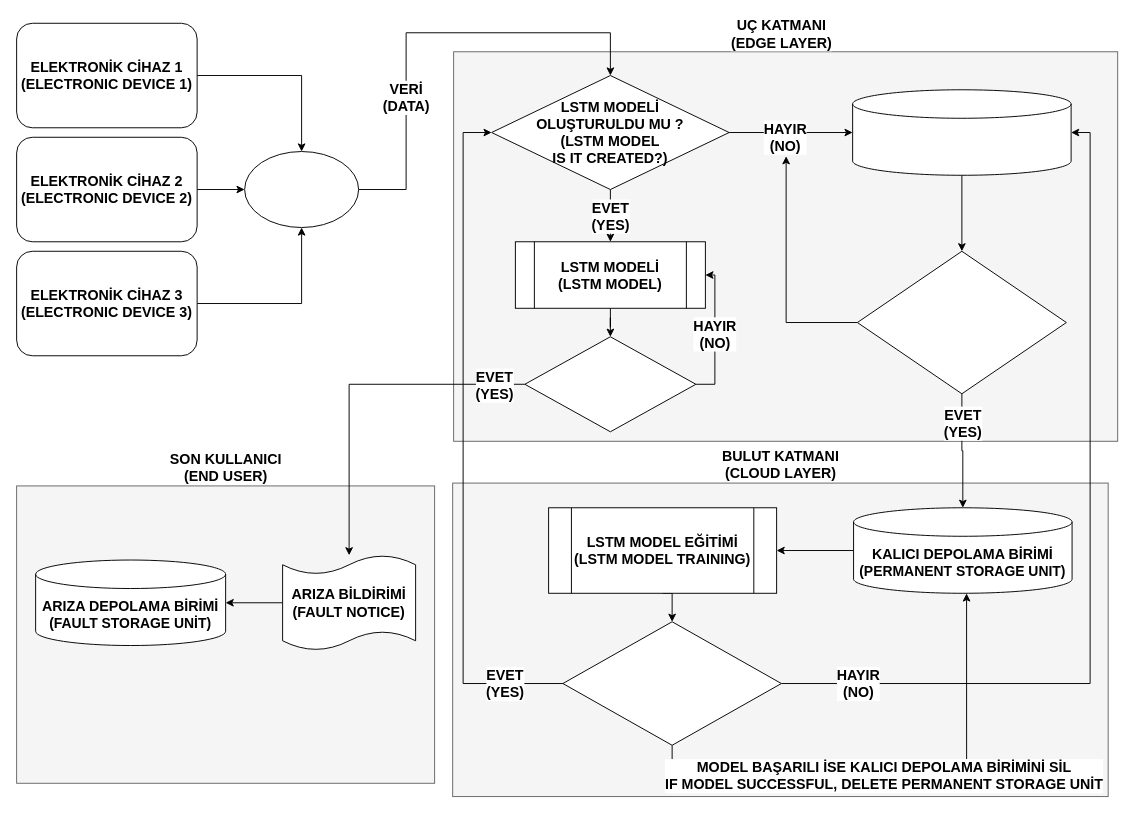
This 1134x813 diagram has some shape labels left out. The shapes that lost their labels are listed below. From the top down, each one's centre as x and y in pixels, then its label:
At point (961, 132): "GEÇİCİ DEPOLAMA BİRİMİ (TEMPORARY STORAGE UNİT)".
At point (301, 189): "IOT DÜĞÜM (IOT NODE)".
At point (961, 322): "VERİ SAYISI YETERLİ Mİ? (IS THE NUMBER OF DATA ENOUGH?)".
At point (610, 384): "ARIZA VAR MI ? (IS THERE A FAULT? )".
At point (671, 683): "MODEL BAŞARILI MI ? (IS THE MODEL SUCCESSFUL?)".
